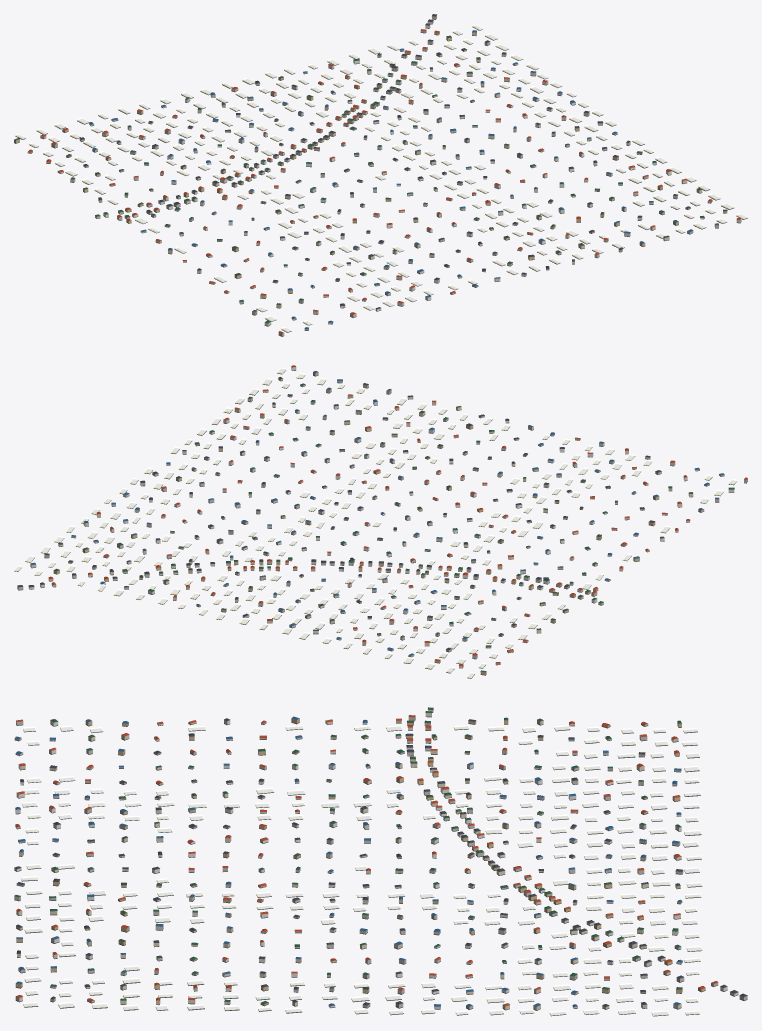
File: buildings_T_E04_N04.glb
The picture shows the model from 3 angles, top to bottom: view 1: azimuth 30°, elevation 25°; view 2: azimuth 150°, elevation 25°; view 3: azimuth 270°, elevation 25°; orthographic projection. The views are drawn at different scales.
Visible parts, largest first — view 1: T_E04_N04_roofs_agri_greenhouse_arch, T_E04_N04_slope_seating_foundations, T_E04_N04_walls_wall_dalat_cream_stucco, T_E04_N04_walls_wall_french_ochre_villa, T_E04_N04_walls_wall_pastel_sand_gray, T_E04_N04_walls_wall_modern_warm_white, T_E04_N04_roofs_roof_slate_French_villa_hip, T_E04_N04_roofs_roof_terracotta_gable, T_E04_N04_roofs_roof_pine_green_hip, T_E04_N04_roofs_roof_highland_blue_gable; view 2: T_E04_N04_roofs_agri_greenhouse_arch, T_E04_N04_slope_seating_foundations, T_E04_N04_walls_wall_french_ochre_villa, T_E04_N04_walls_wall_pastel_sand_gray, T_E04_N04_walls_wall_dalat_cream_stucco, T_E04_N04_walls_wall_modern_warm_white, T_E04_N04_roofs_roof_slate_French_villa_hip, T_E04_N04_roofs_roof_terracotta_gable, T_E04_N04_roofs_roof_pine_green_hip, T_E04_N04_roofs_roof_highland_blue_gable; view 3: T_E04_N04_roofs_agri_greenhouse_arch, T_E04_N04_slope_seating_foundations, T_E04_N04_walls_wall_dalat_cream_stucco, T_E04_N04_walls_wall_french_ochre_villa, T_E04_N04_walls_wall_pastel_sand_gray, T_E04_N04_walls_wall_modern_warm_white, T_E04_N04_roofs_roof_slate_French_villa_hip, T_E04_N04_roofs_roof_terracotta_gable, T_E04_N04_roofs_roof_pine_green_hip, T_E04_N04_roofs_roof_highland_blue_gable.
Part boxes in pixels (x1,y1,x2,y2): T_E04_N04_roofs_agri_greenhouse_arch: (15,24,747,332); T_E04_N04_slope_seating_foundations: (14,18,747,336); T_E04_N04_walls_wall_dalat_cream_stucco: (40,32,712,323); T_E04_N04_walls_wall_french_ochre_villa: (14,31,727,330); T_E04_N04_walls_wall_pastel_sand_gray: (27,15,693,336); T_E04_N04_walls_wall_modern_warm_white: (57,21,741,326); T_E04_N04_roofs_roof_slate_French_villa_hip: (80,14,727,309); T_E04_N04_roofs_roof_terracotta_gable: (28,29,740,333); T_E04_N04_roofs_roof_pine_green_hip: (14,35,704,323); T_E04_N04_roofs_roof_highland_blue_gable: (89,30,718,329); T_E04_N04_roofs_agri_greenhouse_arch: (14,367,737,677); T_E04_N04_slope_seating_foundations: (14,369,747,678); T_E04_N04_walls_wall_french_ochre_villa: (48,372,724,674); T_E04_N04_walls_wall_pastel_sand_gray: (17,380,747,664); T_E04_N04_walls_wall_dalat_cream_stucco: (30,384,699,667); T_E04_N04_walls_wall_modern_warm_white: (28,367,734,642); T_E04_N04_roofs_roof_slate_French_villa_hip: (17,377,664,649); T_E04_N04_roofs_roof_terracotta_gable: (48,365,747,666); T_E04_N04_roofs_roof_pine_green_hip: (54,383,734,672); T_E04_N04_roofs_roof_highland_blue_gable: (30,371,724,655); T_E04_N04_roofs_agri_greenhouse_arch: (21,725,702,1015); T_E04_N04_slope_seating_foundations: (14,710,747,1016); T_E04_N04_walls_wall_dalat_cream_stucco: (14,709,681,1010); T_E04_N04_walls_wall_french_ochre_villa: (14,718,705,1005); T_E04_N04_walls_wall_pastel_sand_gray: (15,716,747,1009); T_E04_N04_walls_wall_modern_warm_white: (14,713,738,1008); T_E04_N04_roofs_roof_slate_French_villa_hip: (14,718,747,1006); T_E04_N04_roofs_roof_terracotta_gable: (15,715,718,1006); T_E04_N04_roofs_roof_pine_green_hip: (14,707,682,1004); T_E04_N04_roofs_roof_highland_blue_gable: (14,716,682,1006).
Bounding box in the file's own units: 1799 × 36.22 × 1867.
